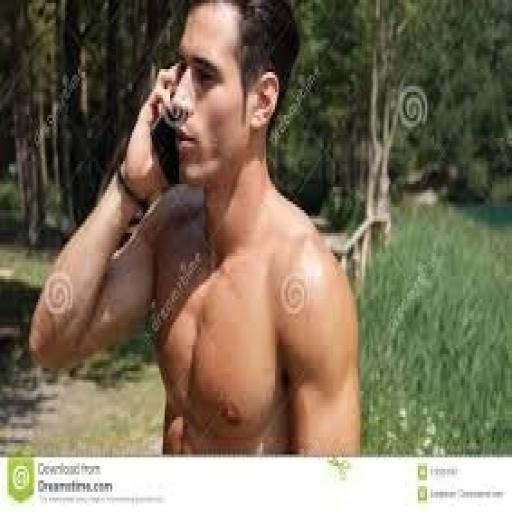calling: (25, 0, 361, 454)
